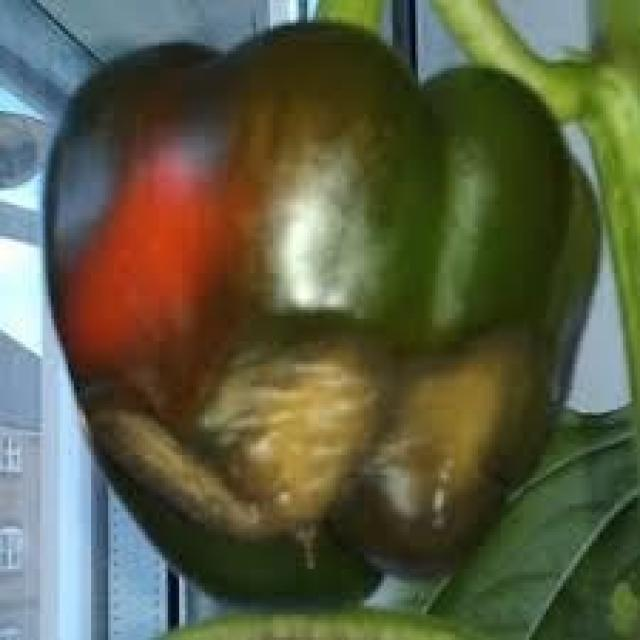Wet Waste: (32, 17, 604, 616)
